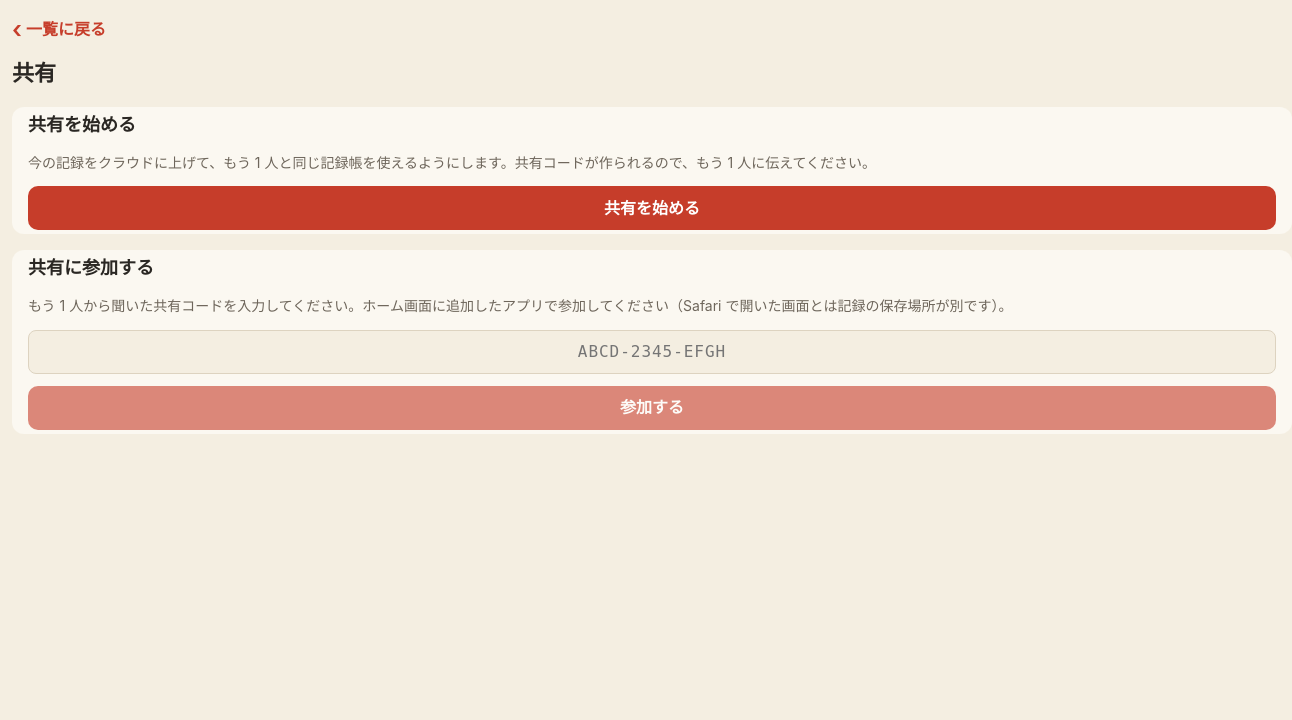
Test case: SharePage：共有を始める › 始められなければ理由を表示し、もう一度押せる
Click the button "共有を始める": (652, 208) [28,186,1276,230]
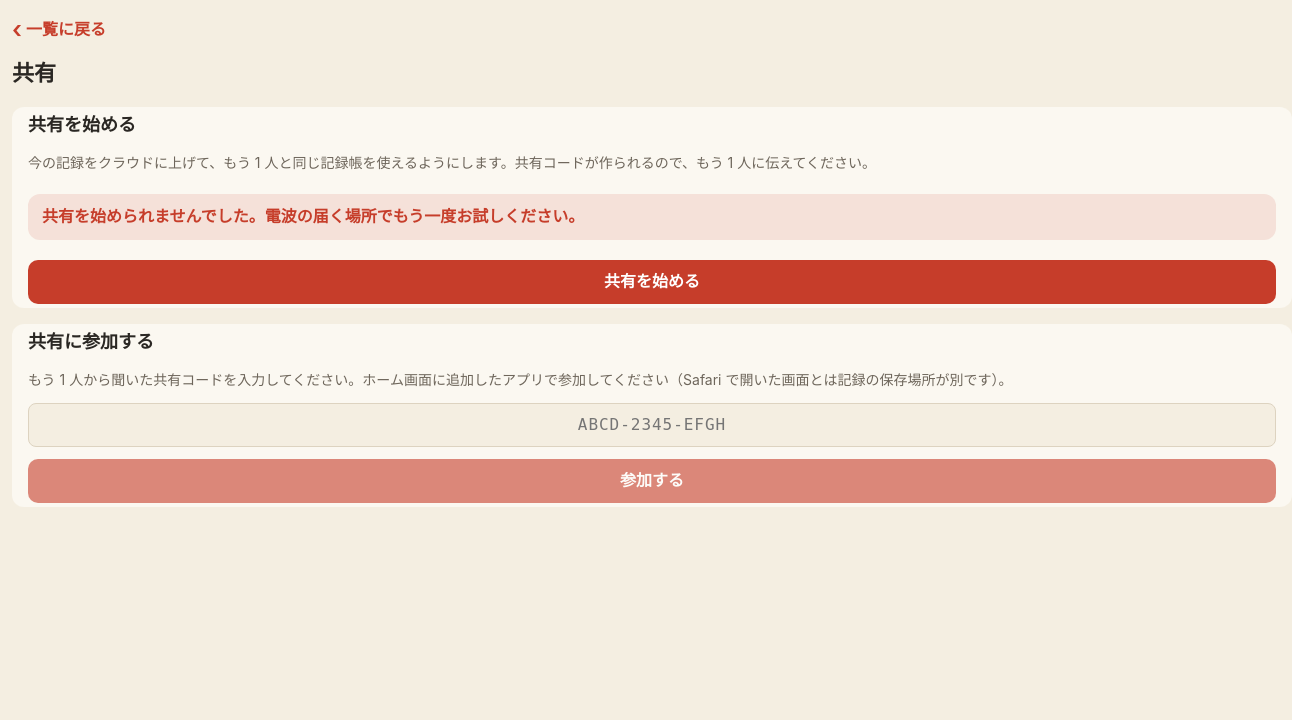
Check: the button "共有を始める" is enabled, box [28,260,1276,304]
Check: the message reads "共有を始められませんでした。電波の届く場所でもう一度お試しください。", box [42,206,584,226]
